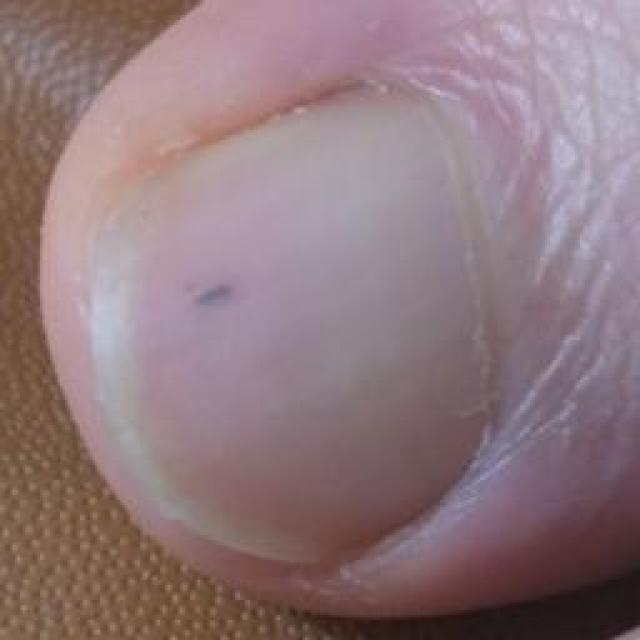Nail: (80, 90, 558, 495)
